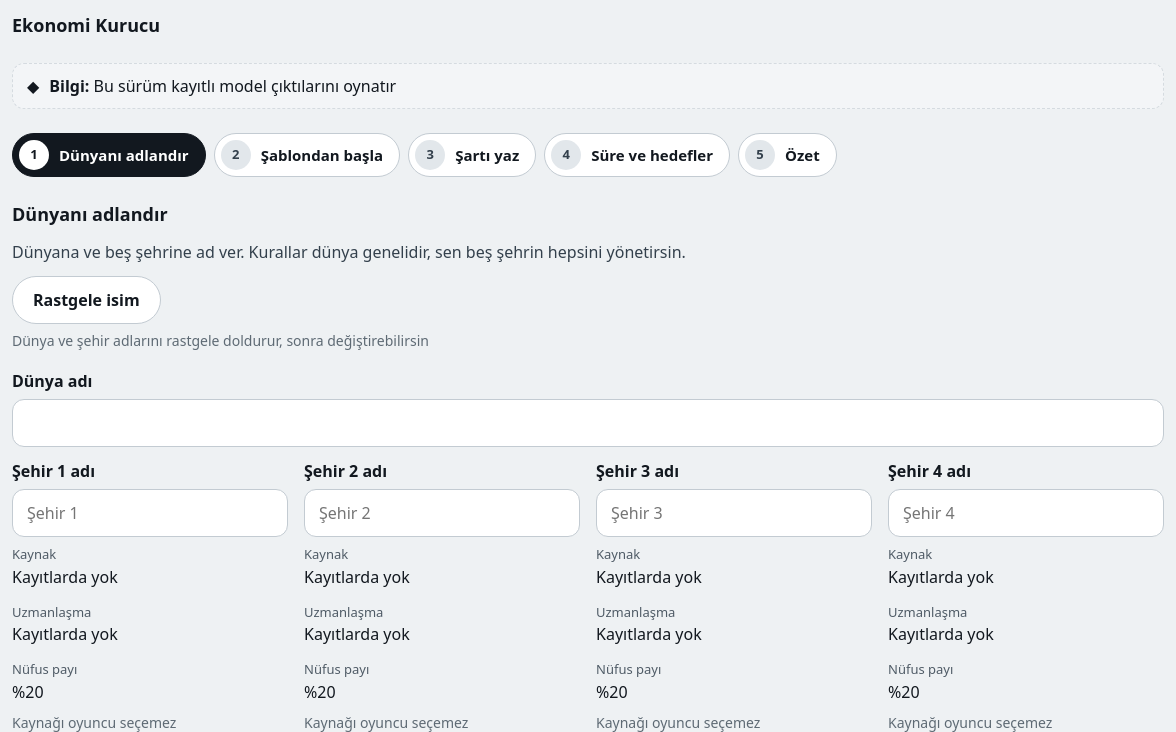
Test: Kurucu adım 0: Rastgele isim › rastgele_again_changes
This screenshot has width=1176, height=732.
Click the button "Rastgele isim".
click(86, 300)  # box [12,276,161,324]
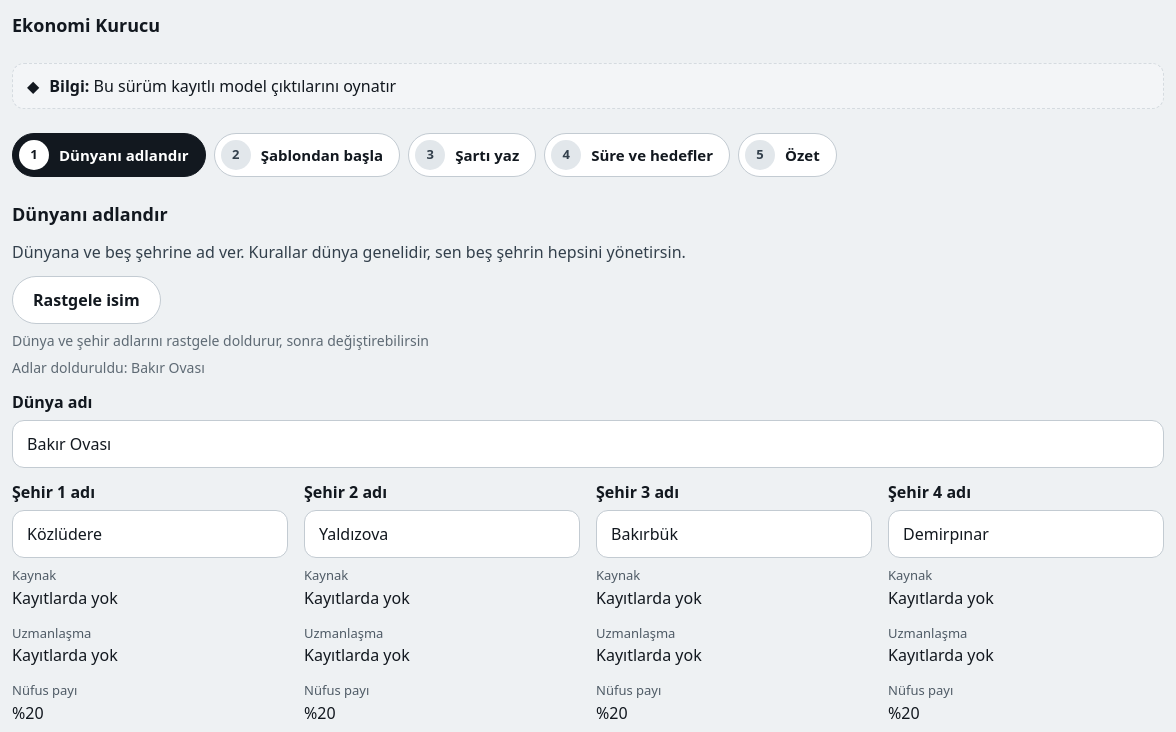
Click the button "Rastgele isim".
click(86, 300)  # box [12,276,161,324]
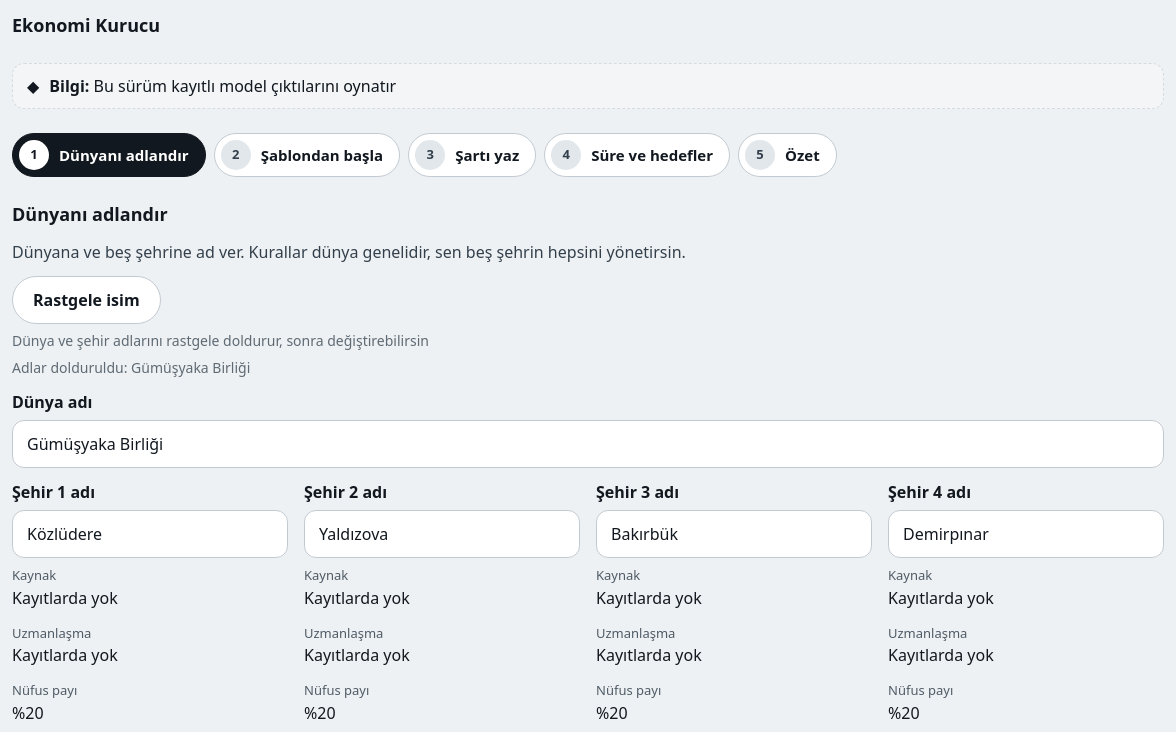
Now the field labelled "Dünya adı" does not hold "Bakır Ovası", box [13,420,1163,468]
